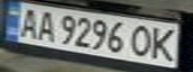2: (72, 15, 93, 49)
6: (106, 19, 130, 55)
9: (87, 17, 112, 52), (54, 11, 78, 47)
A: (33, 8, 60, 43), (15, 6, 42, 39)
K: (148, 25, 181, 62)
O: (127, 22, 157, 58)
